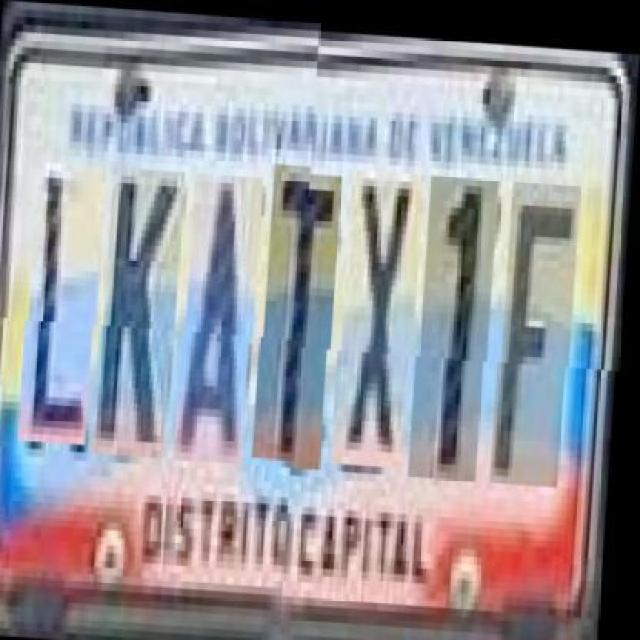1: (418, 169, 500, 473)
a: (182, 177, 266, 468)
f: (500, 174, 582, 478)
k: (101, 172, 187, 463)
l: (27, 168, 108, 452)
t: (261, 168, 344, 464)
x: (340, 164, 426, 462)
